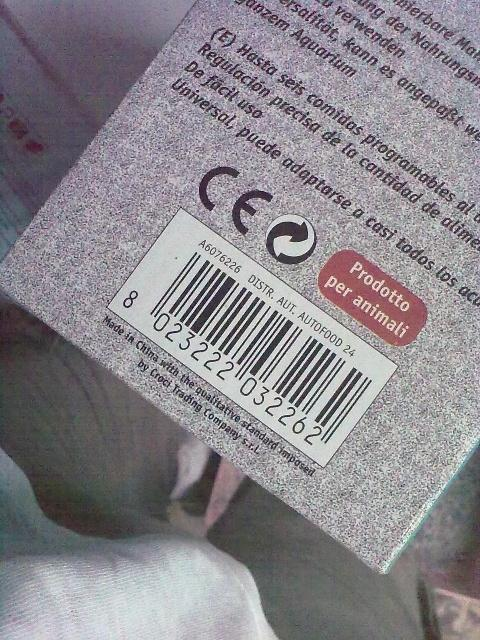Barcode: (116, 223, 378, 456)
